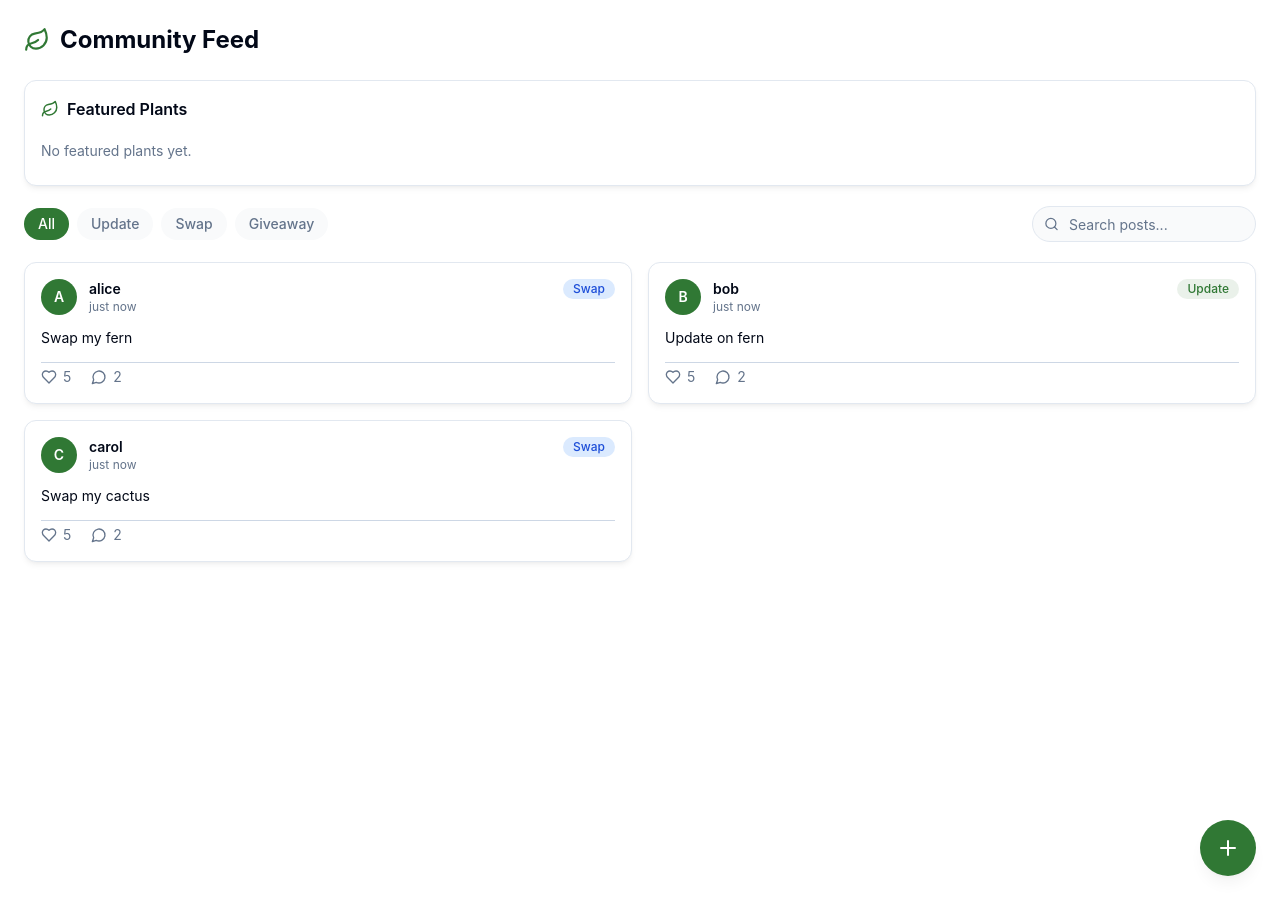
Test case: FeedPage › Filtering › combines type filter and search filter showing only intersected results
Expected: the text "Swap my fern" is shown, 41,329 -> 132,346
Click the button "Swap" at (194, 224), box 162,208 -> 227,240
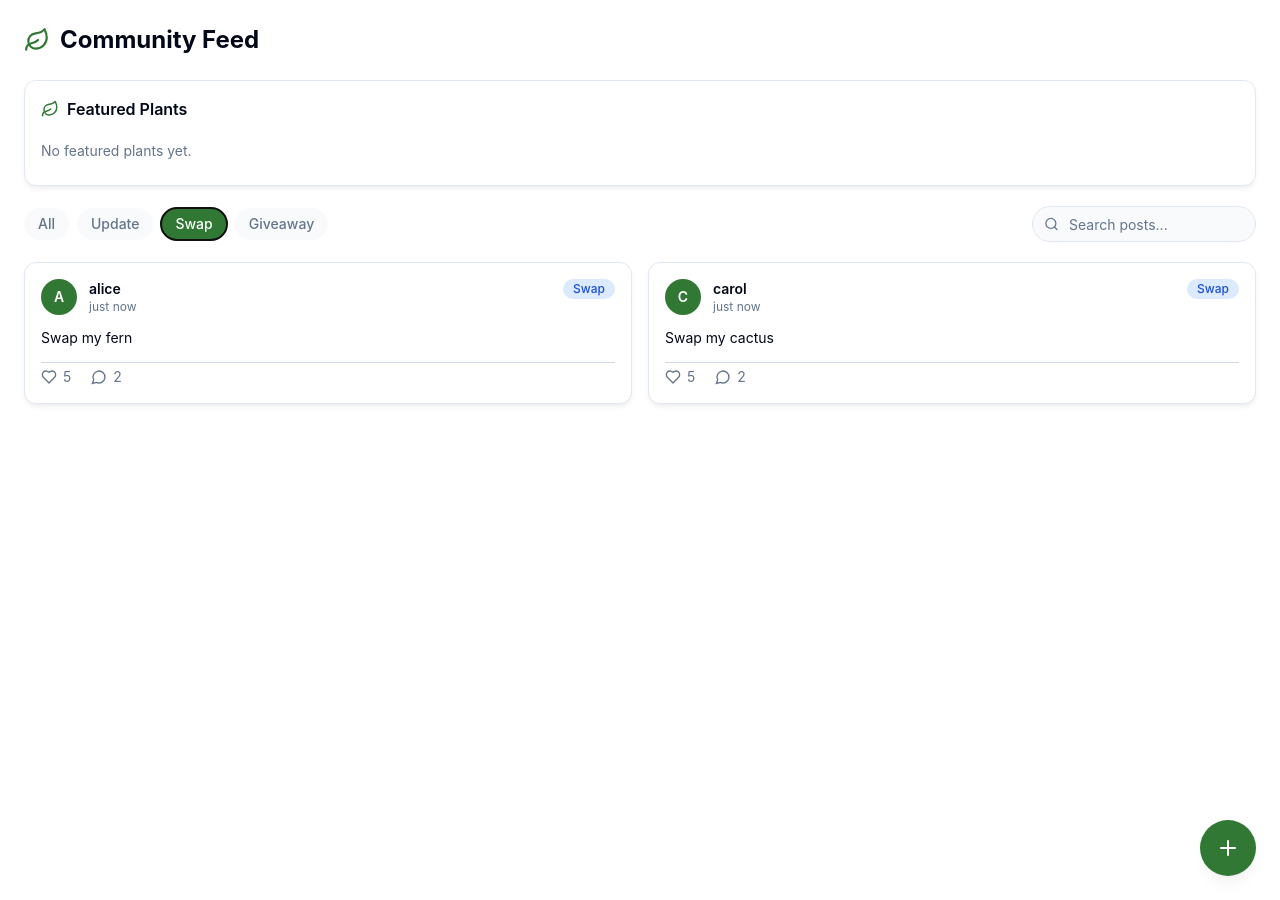
Type "fern" into the search field with placeholder "Search posts..." at (1144, 224), box 1032,206 -> 1256,242
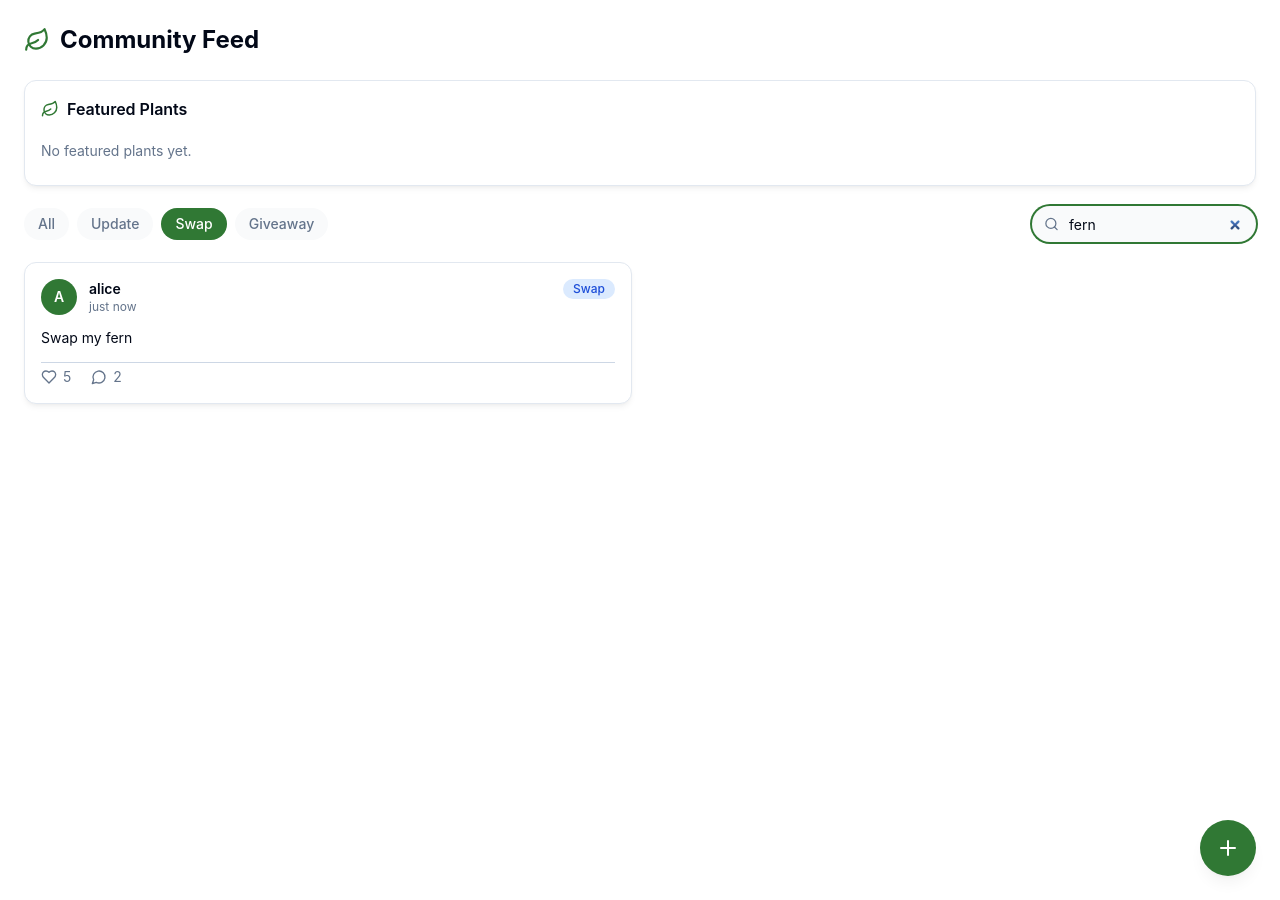
Expected: the text "Swap my fern" is shown, 41,329 -> 132,346
Now the text "Swap my cactus" is gone
